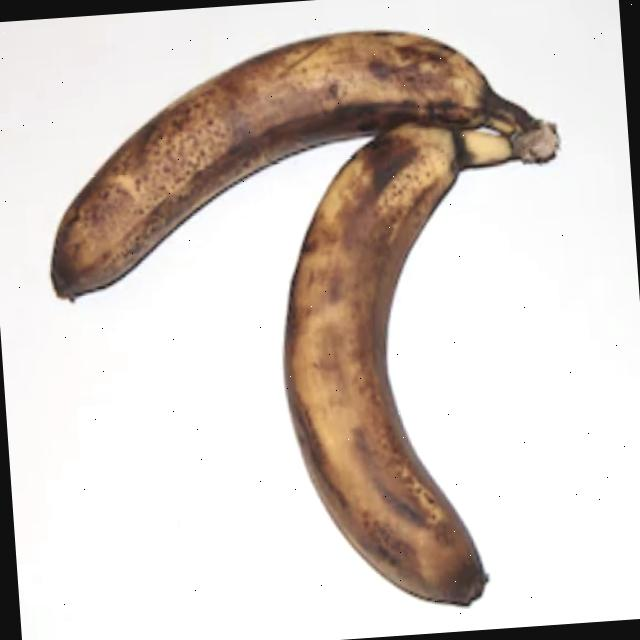rotten banana: (36, 0, 620, 640)
